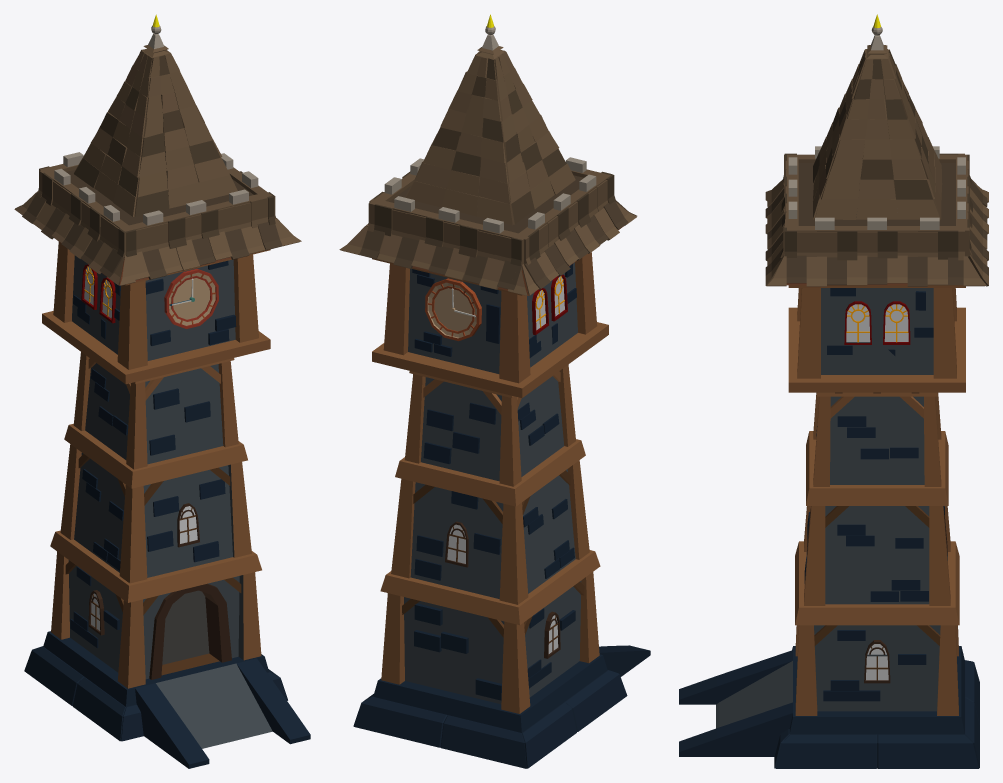
The model's file is SM_Hous_25_B.gltf.
3 views of the same model, side by side, from view 1: azimuth 30°, elevation 25°; view 2: azimuth 150°, elevation 25°; view 3: azimuth 270°, elevation 25° (orthographic). The views are drawn at different scales.
Parts seen in each view (by area): view 1: SM_Hous_25_B; view 2: SM_Hous_25_B; view 3: SM_Hous_25_B.
Boxes of the visible parts, x1,y1,x2,y2 form: SM_Hous_25_B: [14, 14, 310, 768]; SM_Hous_25_B: [339, 14, 650, 768]; SM_Hous_25_B: [679, 14, 988, 768].
Bounding box in the file's own units: 5.82 × 20.21 × 7.98.
